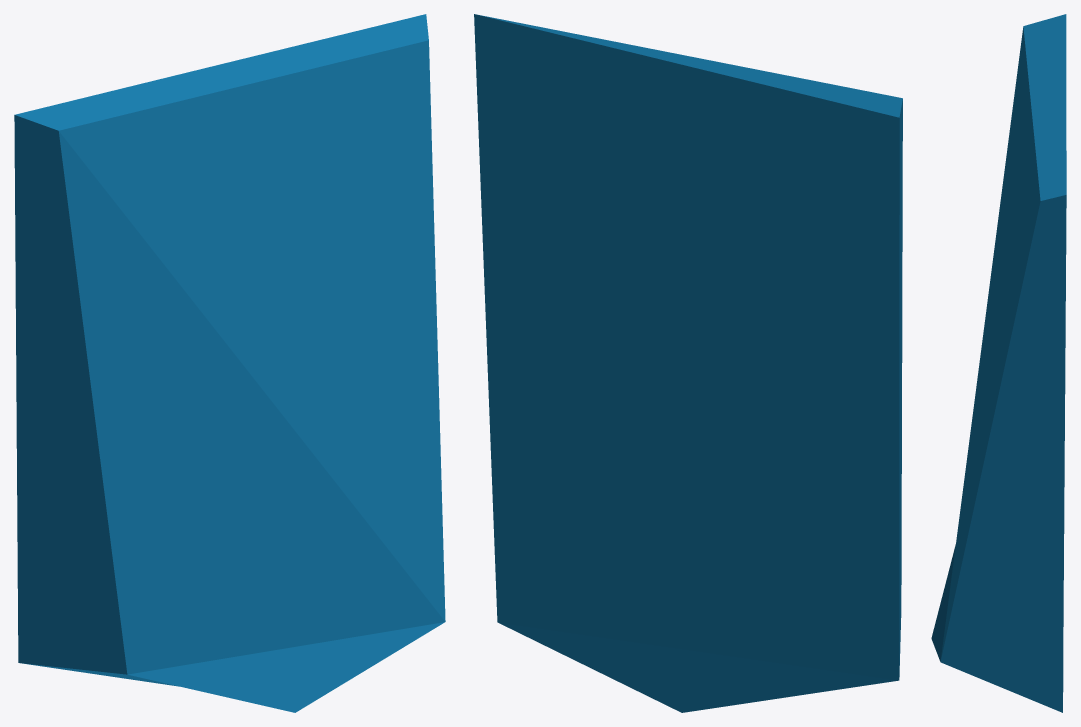
The model's file is Teja3PivoteadaBase.fbx.
3 renders of one model, left to right at view 1: azimuth 30°, elevation 25°; view 2: azimuth 150°, elevation 25°; view 3: azimuth 270°, elevation 25°, orthographic. The views are drawn at different scales.
Visible parts, largest first — view 1: Teja3_LOD1.001; view 2: Teja3_LOD1.001; view 3: Teja3_LOD1.001.
Part boxes in pixels (x1,y1,x2,y2): Teja3_LOD1.001: (14, 14, 445, 712); Teja3_LOD1.001: (474, 14, 902, 712); Teja3_LOD1.001: (931, 14, 1066, 712).
Size of the model in its own units: 18.73 by 86.62 by 59.3.
